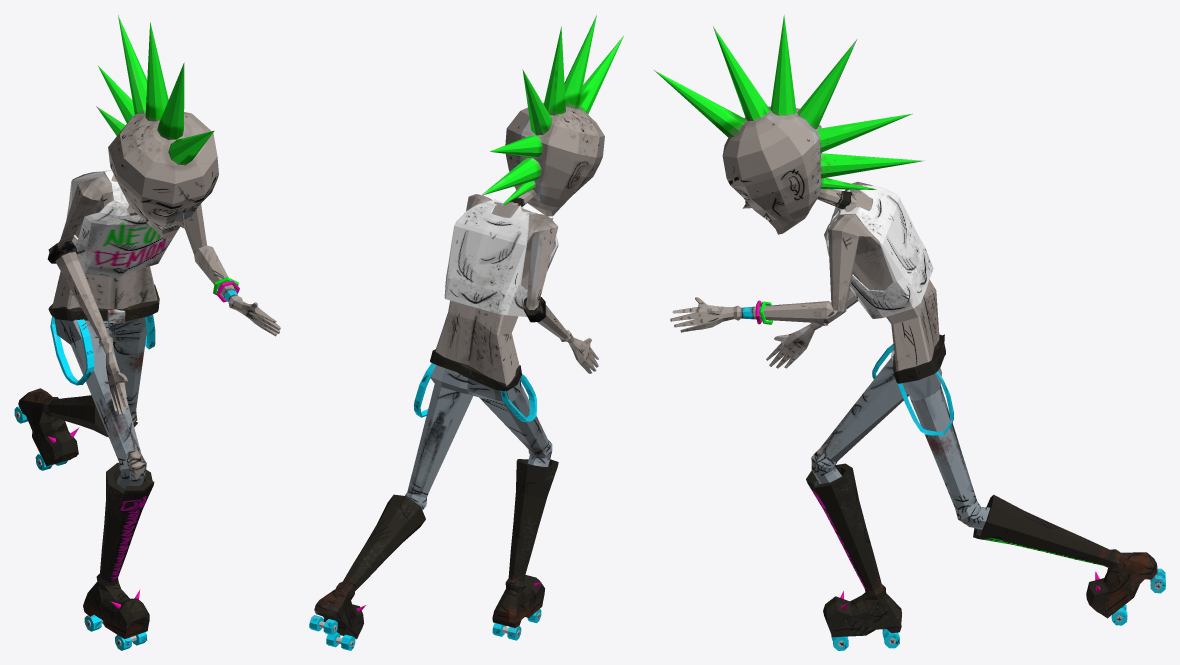
Rendered from punkAnimation_000048.obj.
The picture shows the model from 3 angles, left to right: view 1: azimuth 30°, elevation 25°; view 2: azimuth 150°, elevation 25°; view 3: azimuth 270°, elevation 25°; orthographic projection. The views are drawn at different scales.
Visible parts, largest first — view 1: Cube.004_Cube.003; view 2: Cube.004_Cube.003; view 3: Cube.004_Cube.003.
Part boxes in pixels (bbox=[...]): Cube.004_Cube.003: bbox=[14, 15, 280, 650]; Cube.004_Cube.003: bbox=[309, 15, 623, 650]; Cube.004_Cube.003: bbox=[654, 14, 1165, 650].
Bounding box in the file's own units: 1.45 × 6.76 × 5.01.
